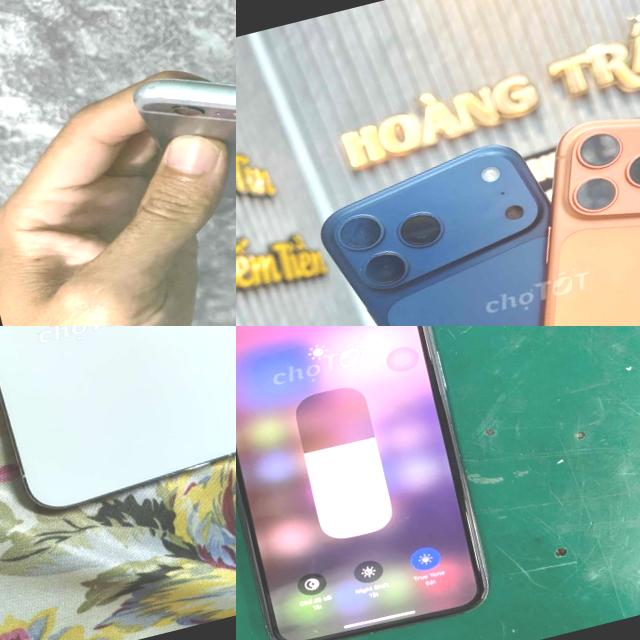gen_11: (236, 326, 508, 640)
gen_12_13: (0, 326, 236, 524)
gen_17: (321, 145, 549, 326), (365, 252, 404, 283)
gen_6: (133, 79, 236, 197)
